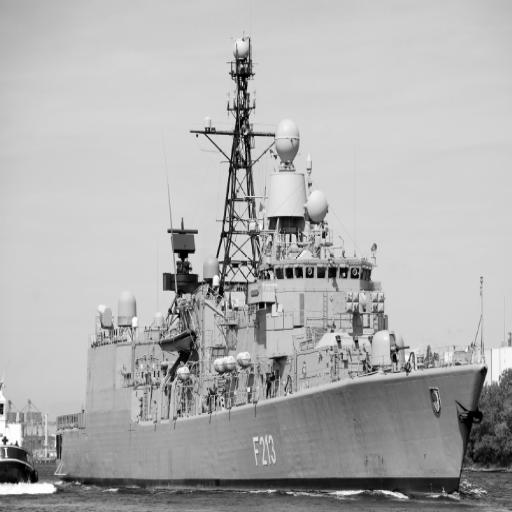Fragata: (52, 32, 493, 501)
